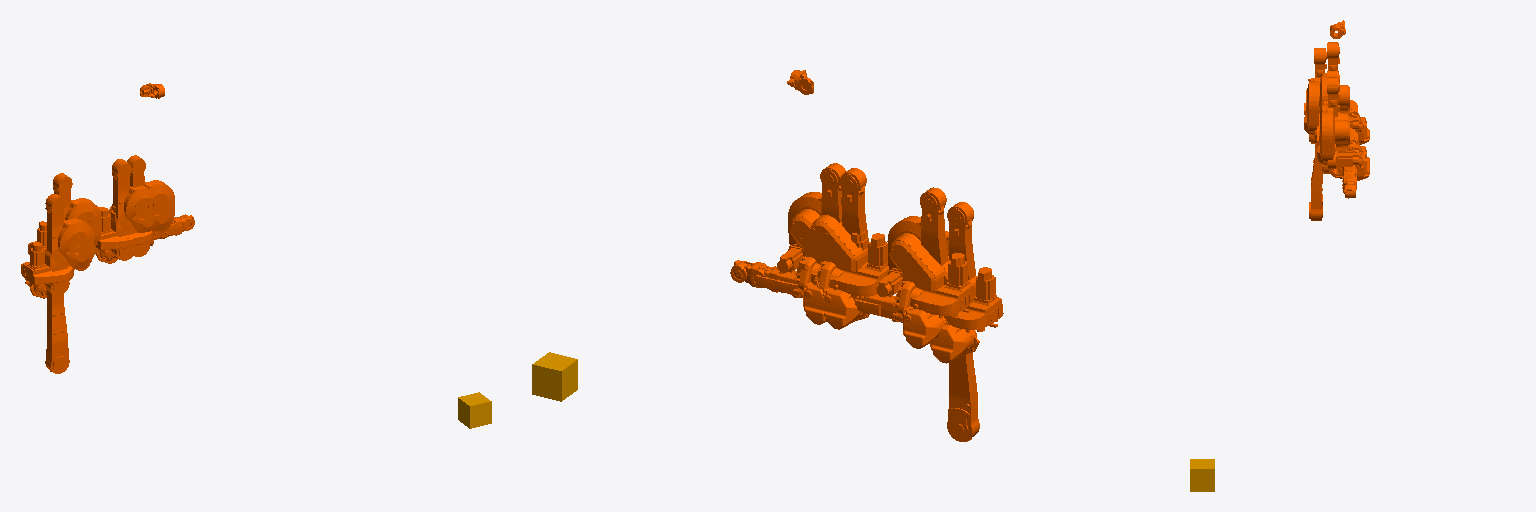
robot.urdf — robot_irb1660_id:
<?xml version="1.0" ?>
<!-- =================================================================================== -->
<!-- |    This document was autogenerated by xacro from [local-path]/ros_robot_calib/src/robot_irb1660_id/urdf/robot_irb1600_macro.urdf | -->
<!-- |    EDITING THIS FILE BY HAND IS NOT RECOMMENDED, !!! LESS speed                                 | -->
<!-- =================================================================================== -->
<robot name="robot_irb1660_id" xmlns:xacro="http://ros.org/wiki/xacro">
  <!-- robot link list -->
  <link name="base_link">
    <visual>
      <origin rpy="0 0 0" xyz="0 0 0"/>
      <geometry>
        <mesh filename="package://robot_irb1660_id/meshes/base_link_bin.stl"/>
      </geometry>
      <material name="abb_orange">
        <color rgba="1 0.43 0 1"/>
      </material>
    </visual>
    <collision>
      <geometry>
        <mesh filename="package://robot_irb1660_id/meshes/base_link_bin.stl"/>
      </geometry>
      <material name="yellow">
        <color rgba="0 1 1 1"/>
      </material>
    </collision>
  </link>
  <link name="link_1">
    <visual>
      <origin rpy="0 0 0" xyz="0 0 0"/>
      <geometry>
        <mesh filename="package://robot_irb1660_id/meshes/link_1_bin_zeroed.stl"/>
      </geometry>
      <material name="abb_orange"/>
    </visual>
    <collision>
      <origin rpy="0 0 0" xyz="0 0 0"/>
      <geometry>
        <mesh filename="package://robot_irb1660_id/meshes/link_1_bin_zeroed.stl"/>
      </geometry>
      <material name="yellow"/>
    </collision>
  </link>
  <link name="link_2">
    <visual>
      <origin rpy="0 0 0" xyz="0 0 0"/>
      <geometry>
        <mesh filename="package://robot_irb1660_id/meshes/link_2_bin_zeroed.stl"/>
      </geometry>
      <material name="abb_orange"/>
    </visual>
    <collision>
      <origin rpy="0 0 0" xyz="0 0 0"/>
      <geometry>
        <mesh filename="package://robot_irb1660_id/meshes/link_2_bin_zeroed.stl"/>
      </geometry>
      <material name="yellow"/>
    </collision>
  </link>
  <link name="link_3">
    <visual>
      <origin rpy="0 0 0" xyz="0 0 0"/>
      <geometry>
        <mesh filename="package://robot_irb1660_id/meshes/link_3_bin_zeroed.stl"/>
      </geometry>
      <material name="abb_orange"/>
    </visual>
    <collision>
      <origin rpy="0 0 0" xyz="0 0 0"/>
      <geometry>
        <mesh filename="package://robot_irb1660_id/meshes/link_3_bin_zeroed.stl"/>
      </geometry>
      <material name="yellow"/>
    </collision>
  </link>
  <link name="link_4">
    <visual>
      <origin rpy="0 0 0" xyz="0 0 0"/>
      <geometry>
        <mesh filename="package://robot_irb1660_id/meshes/link_4_bin_zeroed.stl"/>
      </geometry>
      <material name="abb_orange"/>
    </visual>
    <collision>
      <origin rpy="0 0 0" xyz="0 0 0"/>
      <geometry>
        <mesh filename="package://robot_irb1660_id/meshes/link_4_bin_zeroed.stl"/>
      </geometry>
      <material name="yellow"/>
    </collision>
  </link>
  <link name="link_5">
    <visual>
      <origin rpy="0 0 0" xyz="0 0 0"/>
      <geometry>
        <mesh filename="package://robot_irb1660_id/meshes/link_5_bin_zeroed.stl"/>
      </geometry>
      <material name="abb_orange"/>
    </visual>
    <collision>
      <origin rpy="0 0 0" xyz="0 0 0"/>
      <geometry>
        <mesh filename="package://robot_irb1660_id/meshes/link_5_bin_zeroed.stl"/>
      </geometry>
      <material name="yellow"/>
    </collision>
  </link>
  <link name="link_6">
    <visual>
      <origin rpy="0 0 0" xyz="0 0 0"/>
      <geometry>
        <mesh filename="package://robot_irb1660_id/meshes/link_6_bin_zeroed.stl"/>
      </geometry>
      <material name="abb_orange"/>
    </visual>
    <collision>
      <origin rpy="0 0 0" xyz="0 0 0"/>
      <geometry>
        <mesh filename="package://robot_irb1660_id/meshes/link_6_bin_zeroed.stl"/>
      </geometry>
      <material name="yellow"/>
    </collision>
  </link>
  <link name="tool0"/>

  <!-- camera link list -->

  <link name="camera_link">
  <visual>
    <origin rpy="0 0 0" xyz="0 0 0"/>
    <geometry>
      <box size="0.2 0.2 0.2"/>
    </geometry>
    </visual>
    <material name="Cyan">
      <color rgba="0 1.0 1.0 1.0"/>
    </material>
  </link>
  <link name="camera_optical_frame"/>

  <!-- end of link list -->

  <!-- robot joint list -->
 
  <joint name="joint_1" type="revolute">
    <origin rpy="0 0 0" xyz="0 0 0.124"/>
    <parent link="base_link"/>
    <child link="link_1"/>
    <axis xyz="0 0 1"/>
    <limit effort="0" lower="-3.14159" upper="3.14159" velocity="3.14159"/>
  </joint>
  <joint name="joint_2" type="revolute">
    <origin rpy="0 0 0" xyz="0.15 -0.107 0.3625"/>
    <parent link="link_1"/>
    <child link="link_2"/>
    <axis xyz="0 1 0"/>
    <limit effort="0" lower="-1.5708" upper="2.61799" velocity="3.14159"/>
  </joint>
  <joint name="joint_3" type="revolute">
    <origin rpy="0 0 0" xyz="0 0 0.7"/>
    <parent link="link_2"/>
    <child link="link_3"/>
    <axis xyz="0 1 0"/>
    <limit effort="0" lower="-4.15388" upper="1.37881" velocity="3.14159"/>
  </joint>
  <joint name="joint_4" type="revolute">
    <origin rpy="0 0 0" xyz="0.128 0.107 0.108"/>
    <parent link="link_3"/>
    <child link="link_4"/>
    <axis xyz="1 0 0"/>
    <limit effort="0" lower="-3.05433" upper="3.05433" velocity="5.58505"/>
  </joint>
  <joint name="joint_5" type="revolute">
    <origin rpy="0 0 0" xyz="0.55 0 0"/>
    <parent link="link_4"/>
    <child link="link_5"/>
    <axis xyz="0 1 0"/>
    <limit effort="0" lower="-2.0944" upper="2.0944" velocity="6.28319"/>
  </joint>
  <joint name="joint_6" type="revolute">
    <origin rpy="0.0 0 0" xyz="0.135 0 0"/>
    <parent link="link_5"/>
    <child link="link_6"/>
    <axis xyz="1 0 0"/>
    <limit effort="0" lower="-6.98132" upper="6.98132" velocity="8.72665"/>
  </joint>
  <joint name="joint_6-tool0" type="fixed">
    <parent link="link_6"/>
    <child link="tool0"/>
    <origin rpy="0 0 0" xyz="0 0 0"/>
  </joint>
  
  <!-- camera joint list -->
  <joint name="camera_joint" type="fixed">
    <origin rpy="0 -3.14159 0" xyz="3.5 -1.10 -0.35" />
    <parent link="base_link" />
    <child link="camera_link" />
  </joint>
  <joint name="camera_optical_joint" type="fixed">
    <origin rpy="0 0 0" xyz="0 0 0" />
    <parent link="camera_link" />
    <child link="camera_optical_frame" />
  </joint>

  <!-- end of joint list -->
</robot>

--- What the picture shows (computed from the rendered views, not written in the file) ---
3 views of the same robot in one strip: view 1: azimuth 30°, elevation 25°; view 2: azimuth 150°, elevation 25°; view 3: azimuth 270°, elevation 25° (orthographic).
Model robot_irb1660_id with 10 links and 9 joints (6 revolute, 3 fixed), rooted at base_link, posed all joints at 0.
Visible links, largest first — view 1: link_3, link_5, link_6, link_4, link_2, camera_link; view 2: link_4, link_5, link_6, link_3, link_2, camera_link; view 3: link_6, link_4, link_3, camera_link, link_2, link_5.
Link boxes in pixels (x1,y1,x2,y2): link_3: (21,194,94,298); link_5: (94,159,174,263); link_6: (111,155,194,256); link_4: (28,83,164,269); link_2: (45,288,69,373); camera_link: (458,392,491,428); link_4: (787,70,975,348); link_5: (750,168,889,329); link_6: (730,163,868,324); link_3: (930,202,1003,363); link_2: (947,352,979,441); camera_link: (532,352,577,401); link_6: (1317,77,1369,198); link_4: (1319,20,1369,144); link_3: (1304,48,1326,143); camera_link: (1190,459,1214,491); link_2: (1309,144,1323,220); link_5: (1317,71,1369,184).
Size in the robot's own frame: 3.71 by 1.47 by 3.1 metres.
5 mesh visuals loaded from 7 distinct referenced files (5 binary STL); not drawn: 2 (reference not matched to a file when rendering).